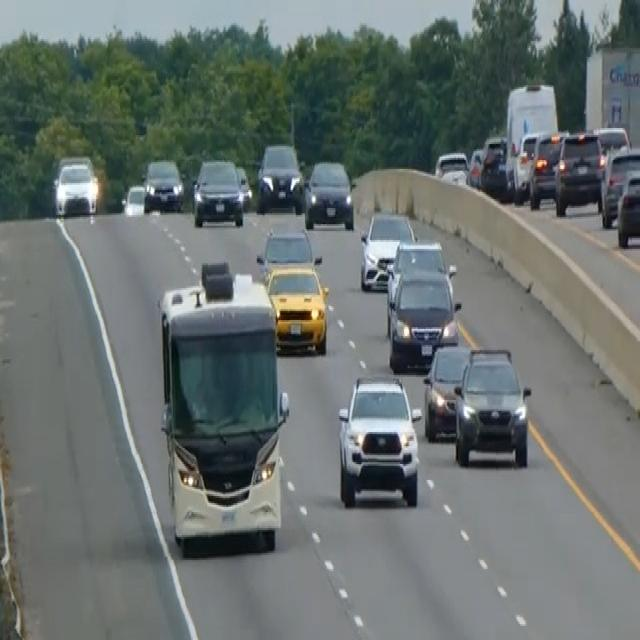bus: (155, 260, 290, 554)
car: (336, 370, 421, 508), (453, 345, 531, 467), (387, 265, 461, 371), (385, 238, 452, 332), (264, 260, 329, 354), (422, 339, 471, 441), (359, 208, 415, 290), (554, 128, 605, 215), (303, 156, 355, 230), (191, 156, 244, 228), (256, 140, 304, 213), (255, 224, 318, 279), (387, 236, 449, 290), (600, 144, 639, 226), (528, 130, 566, 208), (53, 155, 98, 217), (512, 128, 549, 203), (142, 156, 184, 214), (615, 167, 639, 247), (479, 135, 509, 196), (592, 123, 630, 158), (434, 148, 469, 183), (121, 181, 146, 217), (234, 162, 252, 210), (467, 144, 485, 187)
